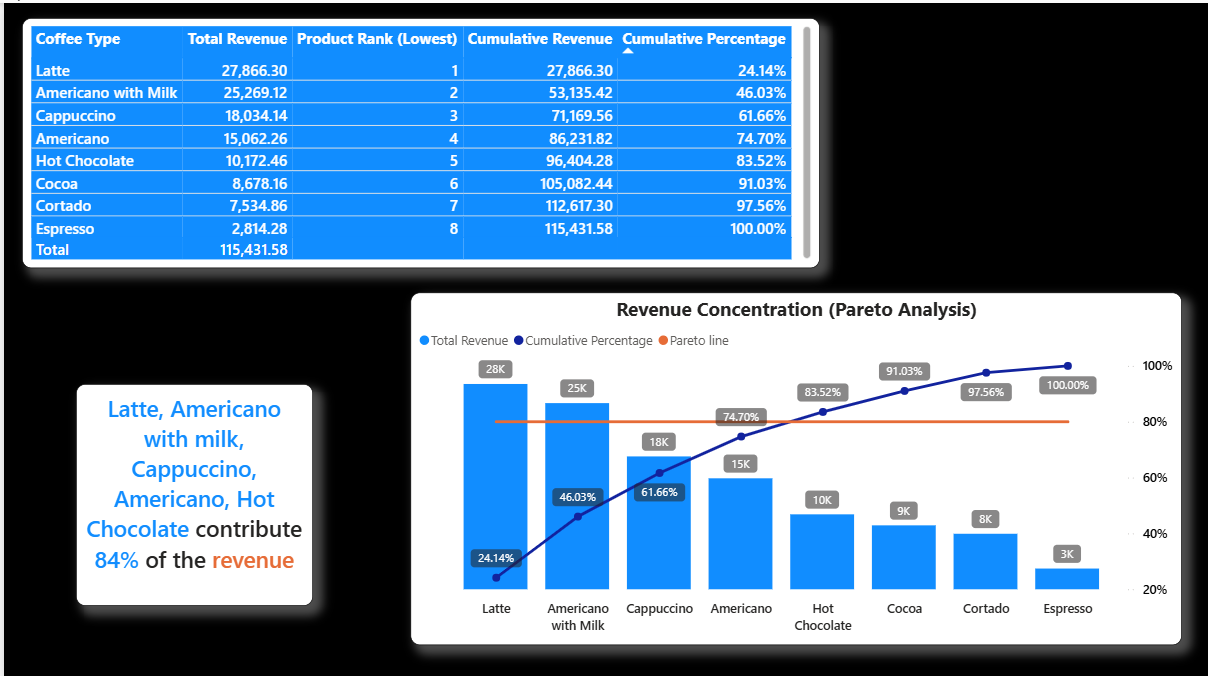

The page's visual inventory and layout, read from the dashboard file:
{"tool":"powerbi","page":{"name":"Pareto chart","canvas":[1280,720],"ordinal":3},"visuals":[{"type":"tableEx","fields":{"Values":["CoffeeSalesData.coffee_name","CoffeeSalesData.Total Revenue","CoffeeSalesData.Product Rank (Lowest)","CoffeeSalesData.Cumulative Revenue","CoffeeSalesData.Cumulative Percentage","select"]},"box":[19.1,15.9,846.2,265.6],"z":0},{"type":"lineStackedColumnComboChart","title":"Revenue Concentration (Pareto Analysis)","fields":{"Category":["CoffeeSalesData.coffee_name"],"Y":["CoffeeSalesData.Total Revenue"],"Y2":["CoffeeSalesData.Cumulative Percentage","CoffeeSalesData.Pareto line"]},"box":[430.7,307.7,817.7,374],"z":1000},{"type":"textbox","box":[76.3,404,251.3,235.4],"z":2000}]}

Visuals, with their boxes in screenshot pixels (x1, y1, x2, y2), scaled from the page's 1280x720 canvas onto the 1208x676 screenshot:
tableEx - CoffeeSalesData.coffee_name x CoffeeSalesData.Total Revenue: l=18, t=15, r=817, b=264
"Revenue Concentration (Pareto Analysis)" lineStackedColumnComboChart: l=406, t=289, r=1178, b=640
textbox: l=72, t=379, r=309, b=600
